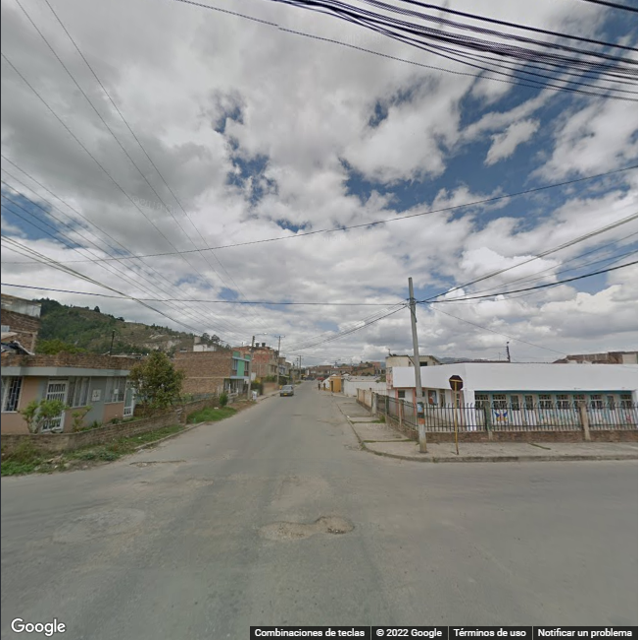D40: (249, 511, 360, 545)
